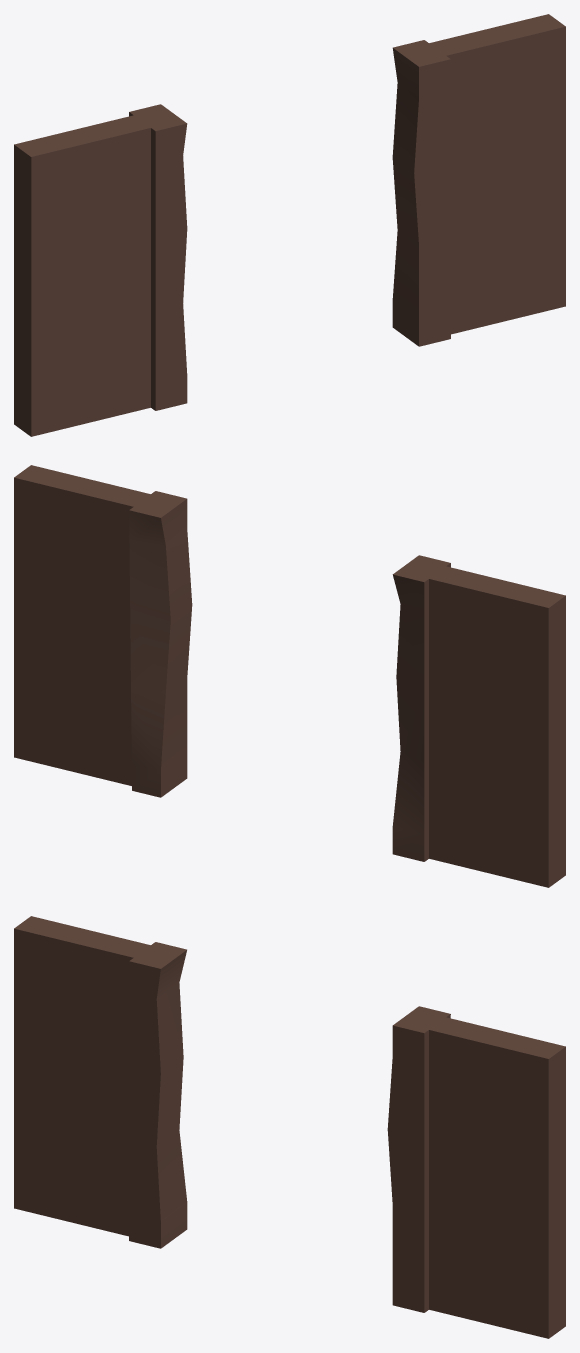
Rendered from Wood Door Middle.fbx.
3 renders of one model, top to bottom at view 1: azimuth 30°, elevation 25°; view 2: azimuth 150°, elevation 25°; view 3: azimuth 330°, elevation 25°, orthographic.
Visible parts, largest first — view 1: Wood_Door_Middle; view 2: Wood_Door_Middle; view 3: Wood_Door_Middle.
Part boxes in pixels (box(x1,y1,x2,y2)): Wood_Door_Middle: box(14, 14, 565, 436); Wood_Door_Middle: box(14, 465, 565, 887); Wood_Door_Middle: box(14, 916, 565, 1338).
Size of the model in its own units: 2 by 1 by 0.1712.
